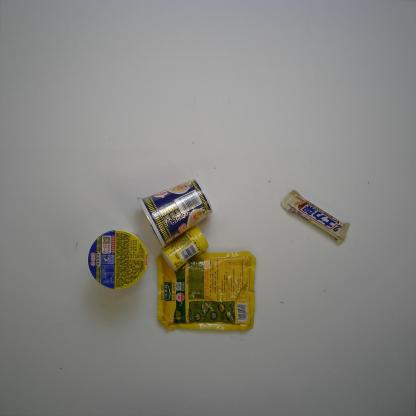Chocolate: (276, 187, 352, 247)
Gum: (159, 225, 211, 273)
Instant Noodles: (134, 176, 214, 251), (86, 229, 151, 293)
Seasoner: (154, 250, 258, 332)
